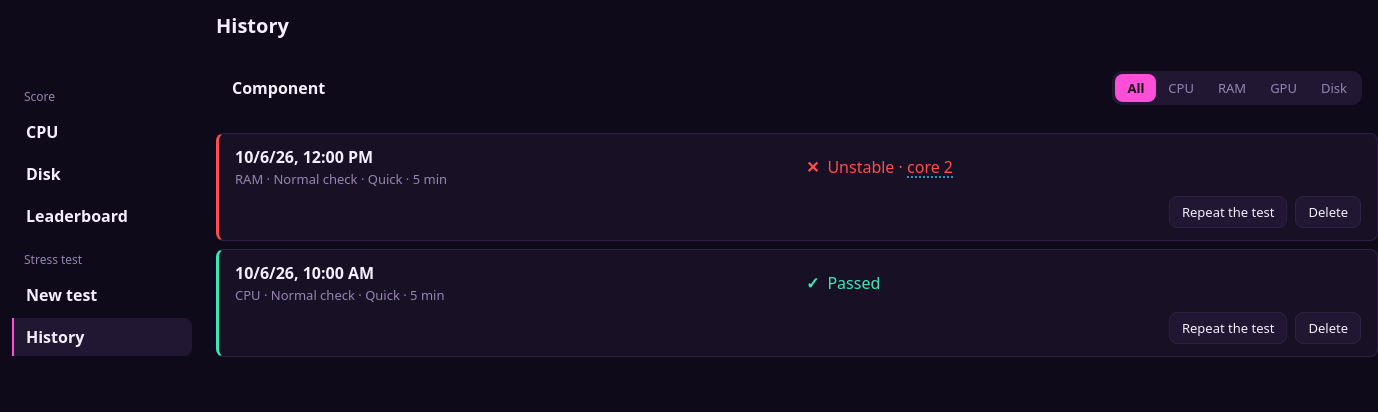
it: repeat of a session that is gone says so
Check: the number of list items is 2, box [216,133,1377,241]; [216,249,1377,357]
Step 1. Click the button "Repeat the test" below "core 2" → {"x": 1228, "y": 212}, box [1169,196,1288,228]
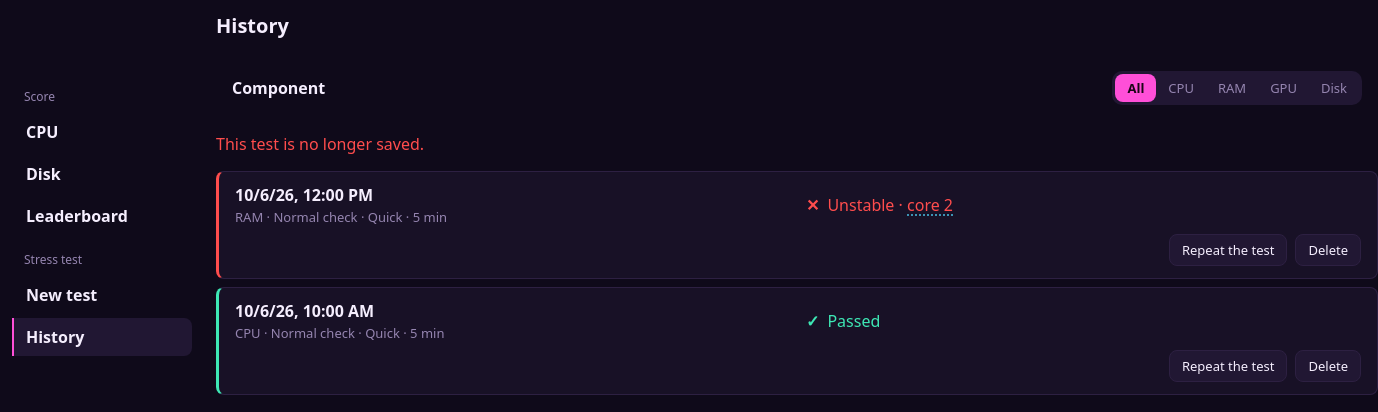
Check: the message reads "This test is no longer saved.", box [216,133,424,155]
